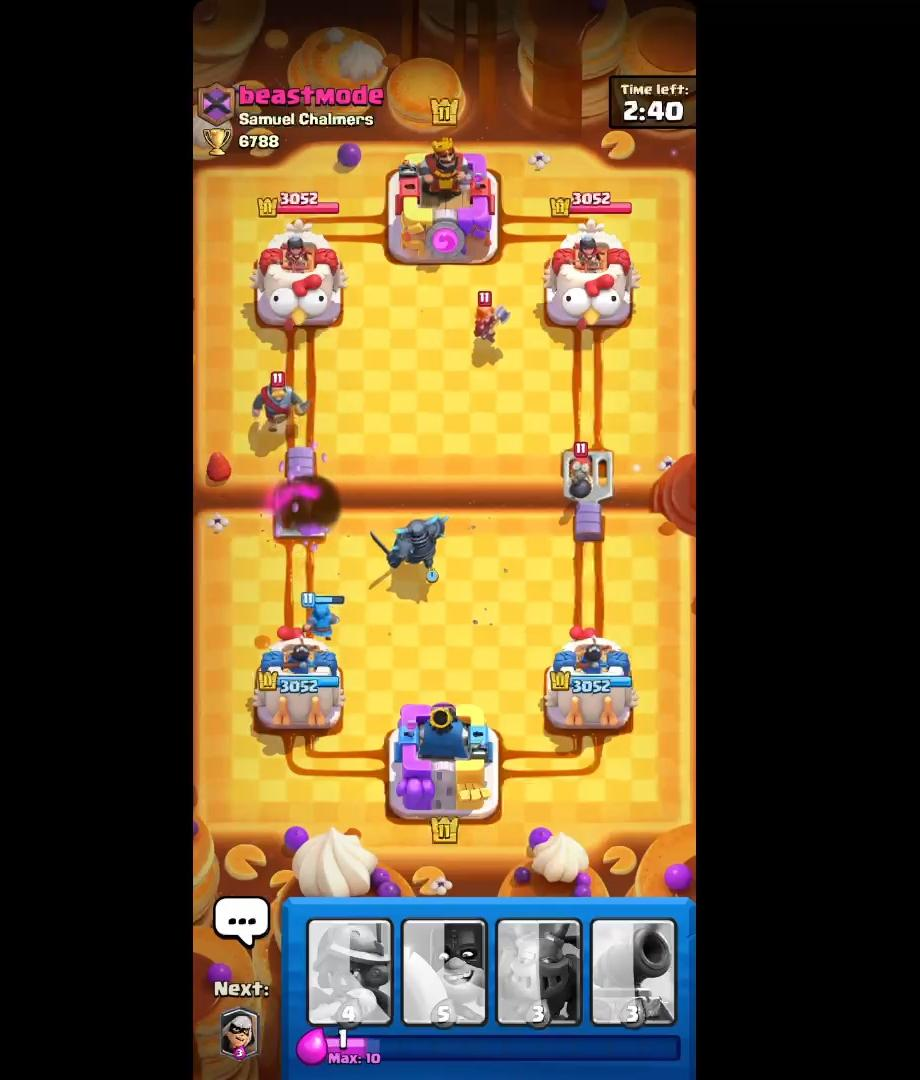Bomber: (563, 438, 599, 509)
Knight: (242, 370, 311, 441)
Valkyrie: (463, 285, 516, 359)
